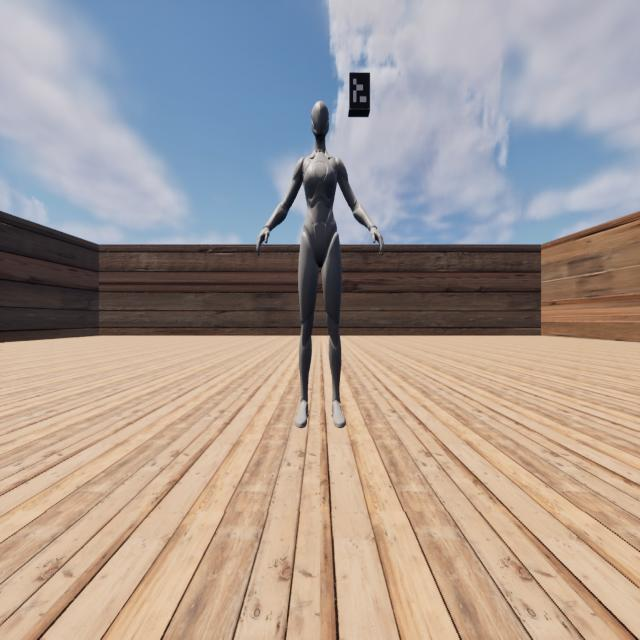aruco: (350, 73, 370, 109)
hip: (301, 232, 339, 244)
